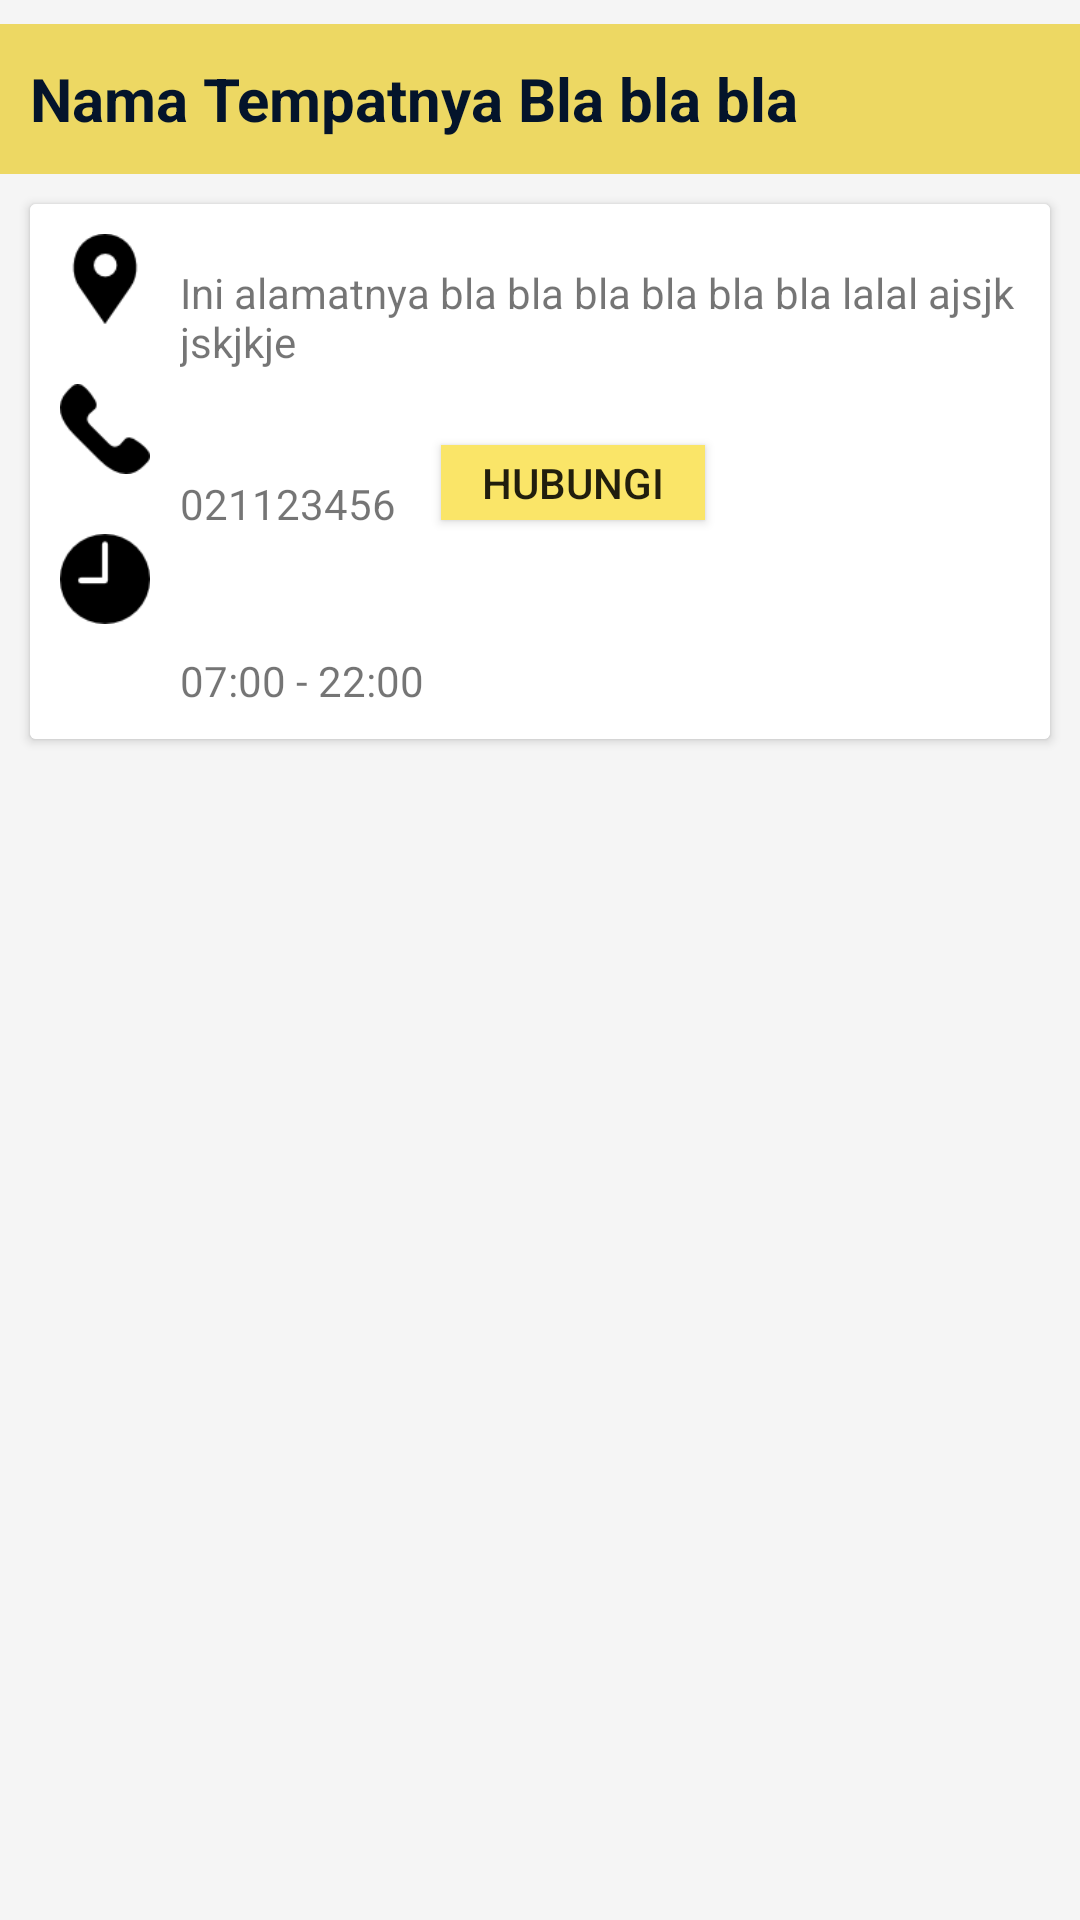

Point at icon controls on the screen. Image size 1080 x 1920, points as (x=x, y=y).
detail alamat: (x=105, y=279)
detail jam: (x=105, y=579)
detail phone: (x=105, y=429)
